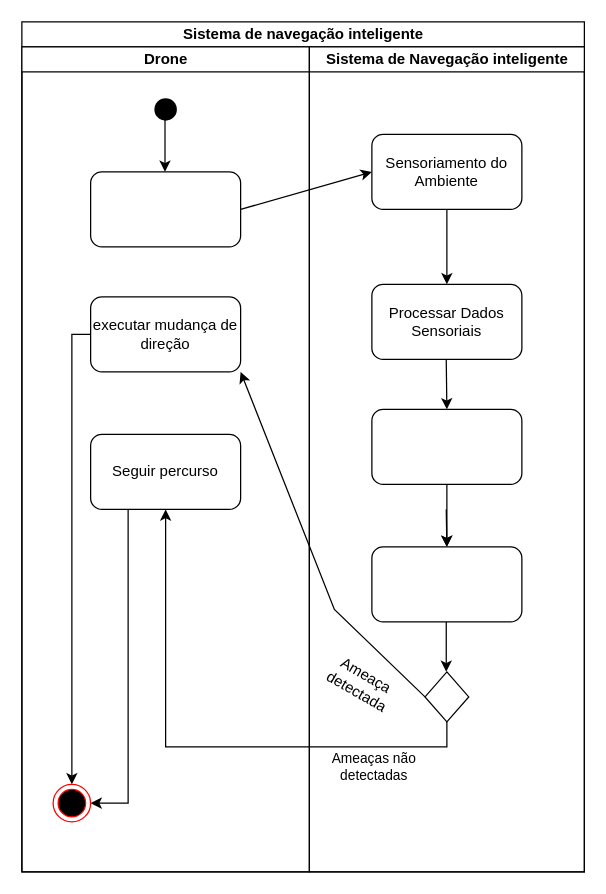
The diagram is 606 pixels wide and 894 high, and some of its shapes have lost their labels. Each missing label, with the centre of its shape:
"Acionar redes neurais" goes at (x=446, y=584).
"Detecção de Ameaças" goes at (x=446, y=446).
"Iniciar missão" goes at (x=165, y=209).
